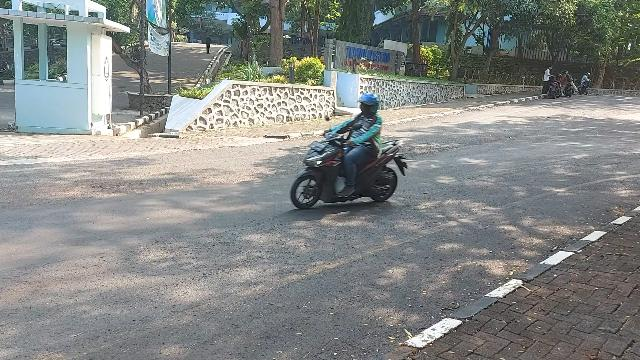helm: (360, 94, 381, 115)
motor: (293, 116, 410, 210)
